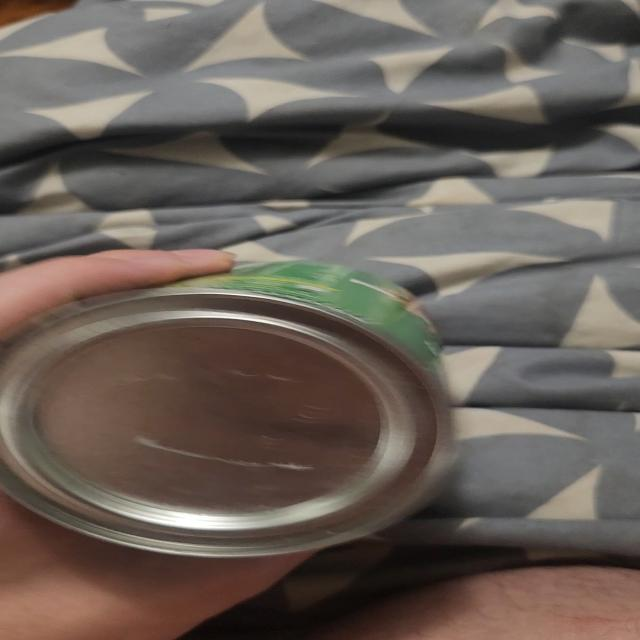nestle_milo_tin: (0, 261, 457, 557)
